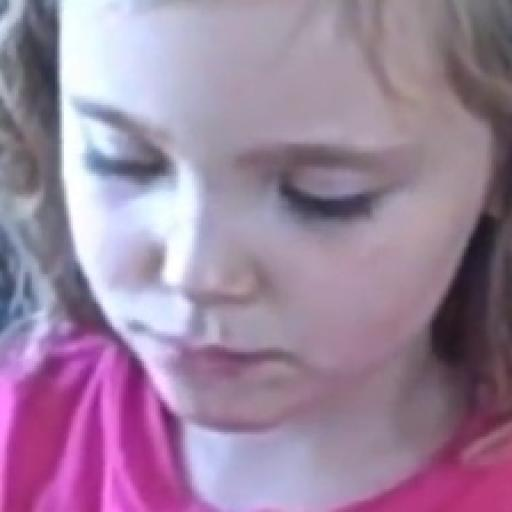Autism: (48, 0, 512, 465)
